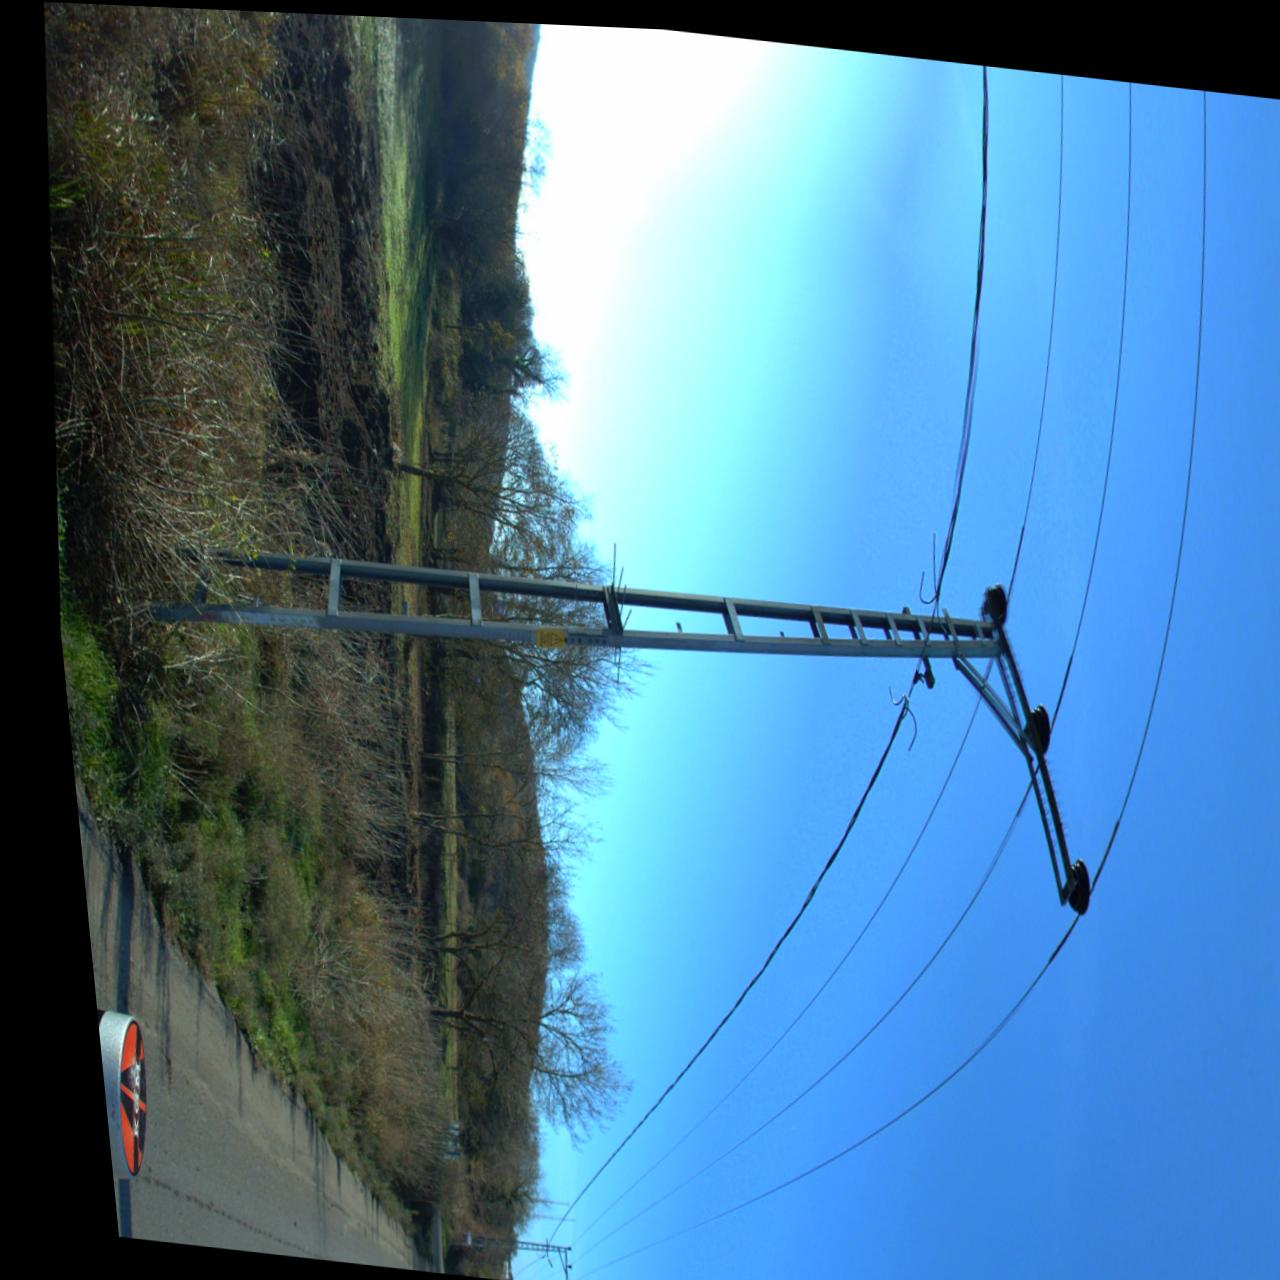Utility Pole Information Plate: (517, 619, 552, 653)
